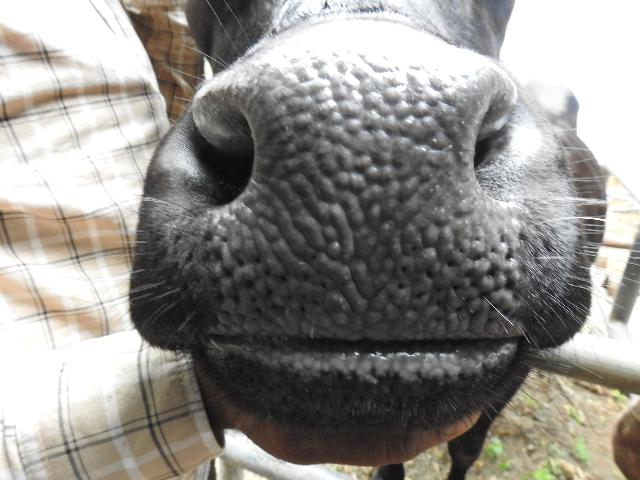Muzzle: (230, 66, 498, 338)
